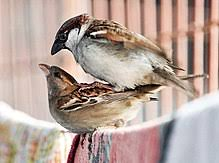hsparrow: (49, 7, 200, 103), (36, 62, 211, 135)
